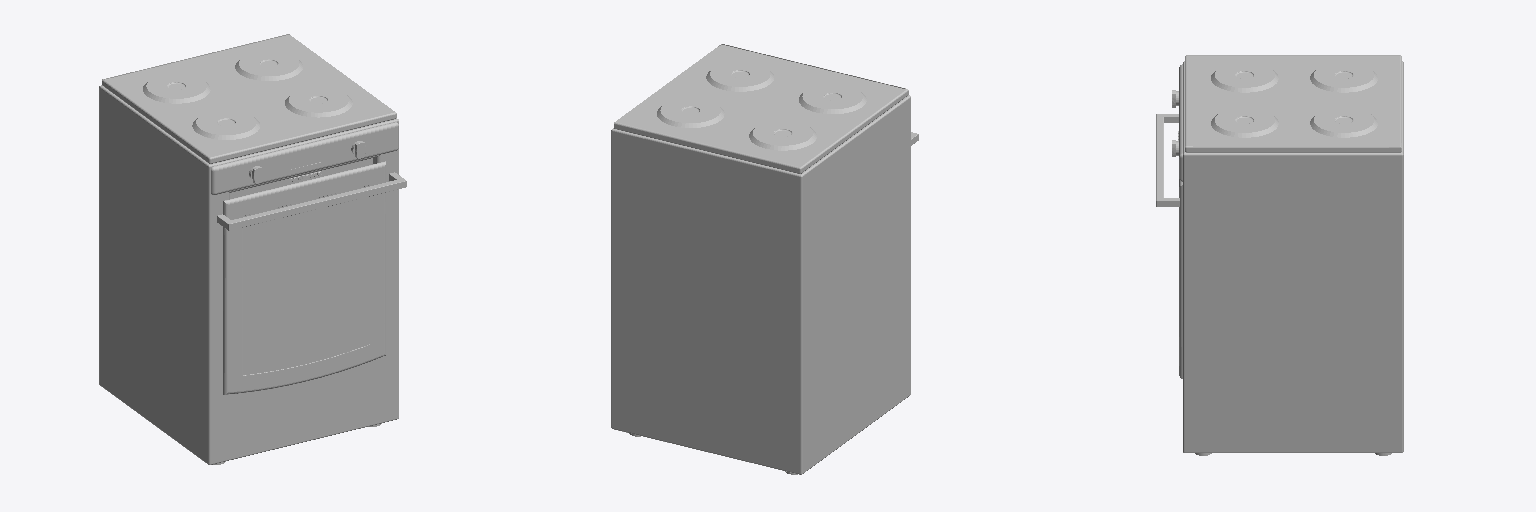
The model's file is red-kitchen1.obj.
The picture shows the model from 3 angles: view 1: azimuth 30°, elevation 25°; view 2: azimuth 150°, elevation 25°; view 3: azimuth 270°, elevation 25°; orthographic projection.
Parts seen in each view (by area): view 1: kitchen:kitchen:kitchen:esc_kitchen:elektricniFBXASC032sporetFBX; view 2: kitchen:kitchen:kitchen:esc_kitchen:elektricniFBXASC032sporetFBX; view 3: kitchen:kitchen:kitchen:esc_kitchen:elektricniFBXASC032sporetFBX.
Part boxes in pixels (x1,y1,x2,y2): kitchen:kitchen:kitchen:esc_kitchen:elektricniFBXASC032sporetFBX: (99,34,406,464); kitchen:kitchen:kitchen:esc_kitchen:elektricniFBXASC032sporetFBX: (611,44,918,474); kitchen:kitchen:kitchen:esc_kitchen:elektricniFBXASC032sporetFBX: (1156,55,1403,455).
Bounding box in the file's own units: 96 × 152 × 108.